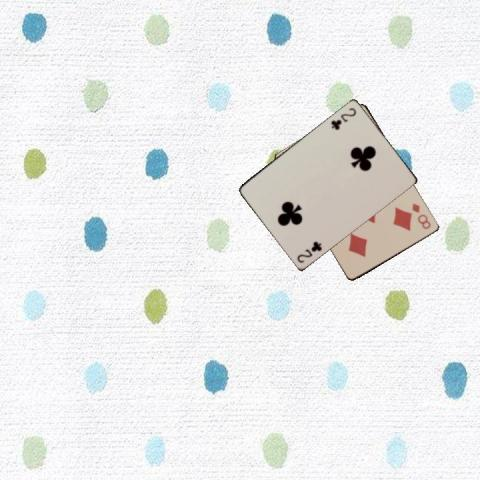2c: (328, 105, 357, 131), (294, 238, 323, 264)
8d: (409, 200, 433, 231)
